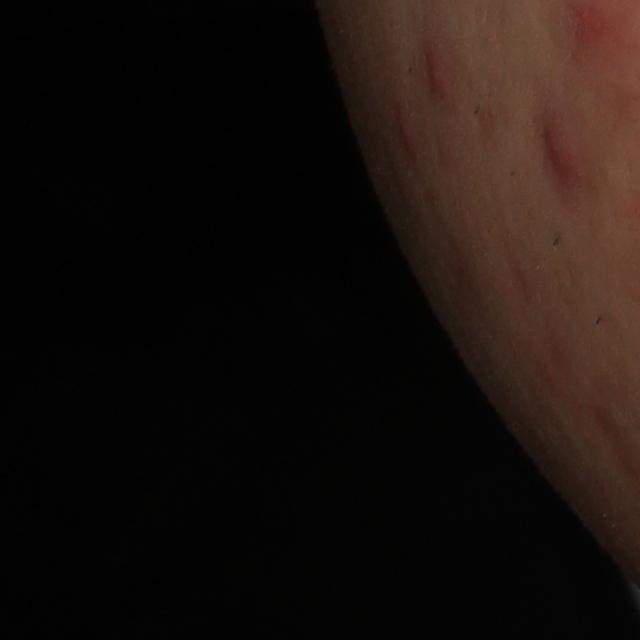papule: (544, 109, 582, 179), (394, 108, 421, 153)
